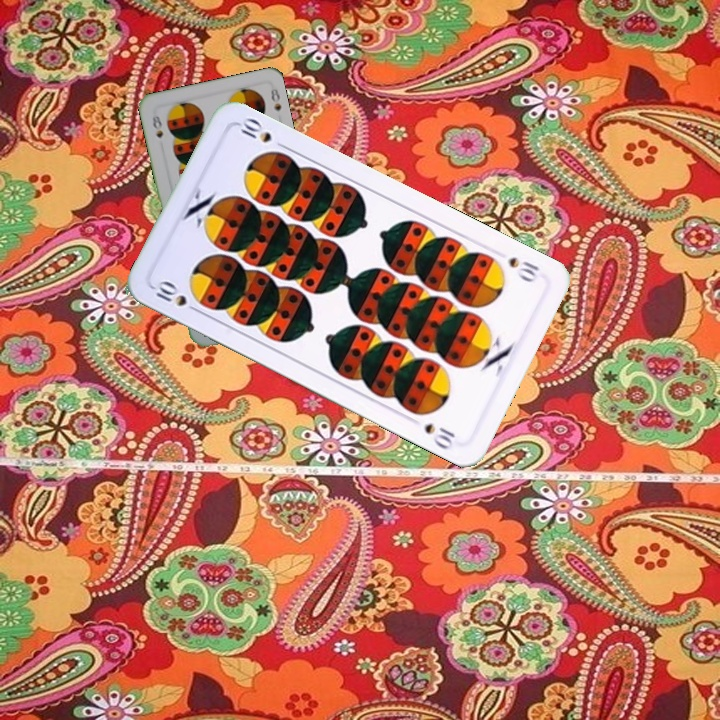S10: (151, 277, 203, 316), (504, 253, 543, 285)
S8: (148, 112, 166, 140)
